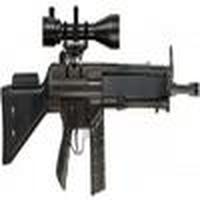gun: (1, 10, 197, 197)
